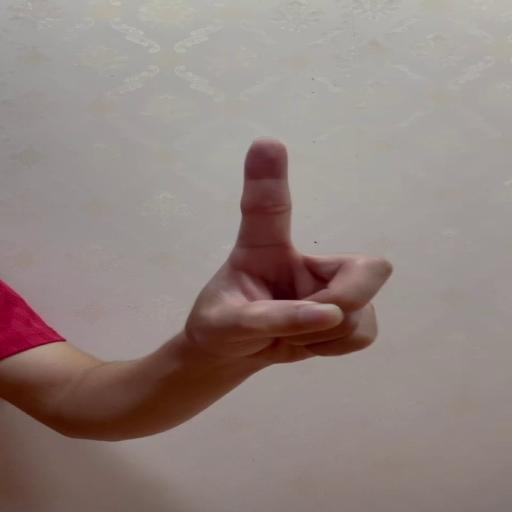point: (217, 135, 394, 360)
